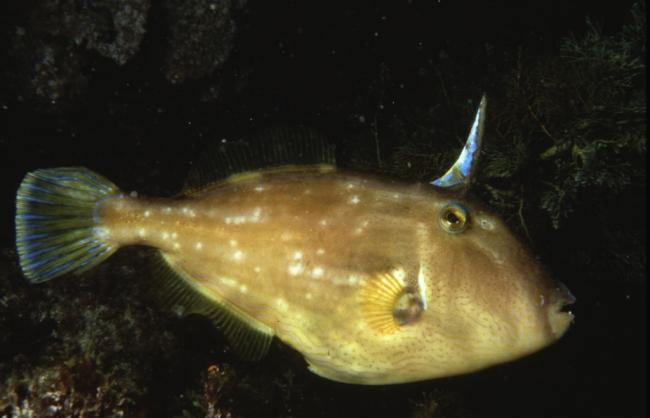fish: (14, 91, 577, 386)
